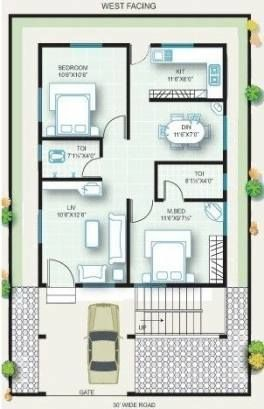door: (45, 253, 76, 290), (130, 42, 157, 68), (100, 113, 128, 138), (133, 196, 155, 227), (159, 176, 185, 202), (79, 155, 107, 179)
room: (34, 171, 136, 287), (31, 32, 132, 139), (121, 196, 228, 284), (127, 36, 229, 104), (128, 98, 230, 166), (40, 133, 110, 181)
wall: (243, 14, 257, 395), (4, 15, 16, 399), (8, 10, 251, 20), (129, 389, 258, 401), (126, 41, 135, 141), (123, 200, 133, 290), (36, 132, 102, 143), (153, 158, 229, 167), (149, 96, 226, 104), (42, 174, 102, 184), (170, 281, 228, 291), (221, 48, 231, 100), (36, 43, 46, 87), (35, 39, 69, 51), (40, 159, 48, 210), (8, 390, 48, 400), (196, 39, 228, 50), (103, 38, 131, 50), (221, 234, 228, 282), (37, 243, 43, 290), (184, 195, 223, 202)
window: (32, 84, 49, 124), (69, 37, 99, 52), (220, 199, 230, 235), (82, 280, 114, 291), (37, 207, 45, 246), (222, 115, 230, 154), (218, 169, 230, 194), (134, 281, 167, 290), (166, 40, 195, 50)
